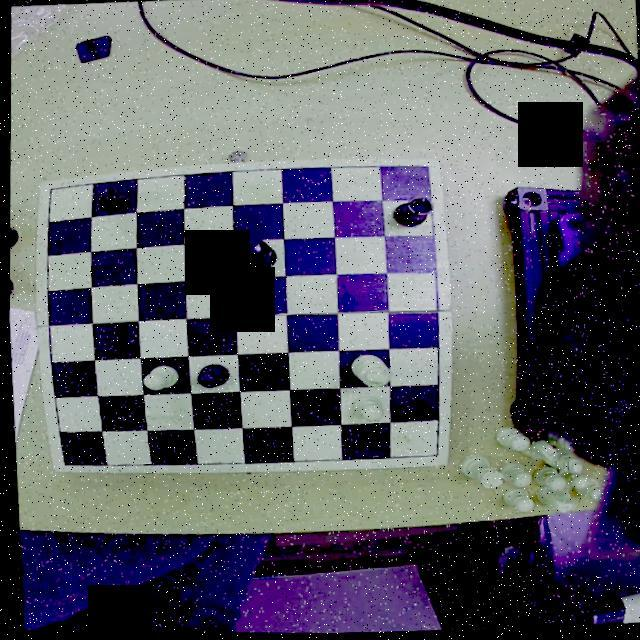chess-table-corners: (410, 160, 438, 182), (421, 442, 446, 464), (50, 454, 80, 472), (38, 182, 61, 202)
